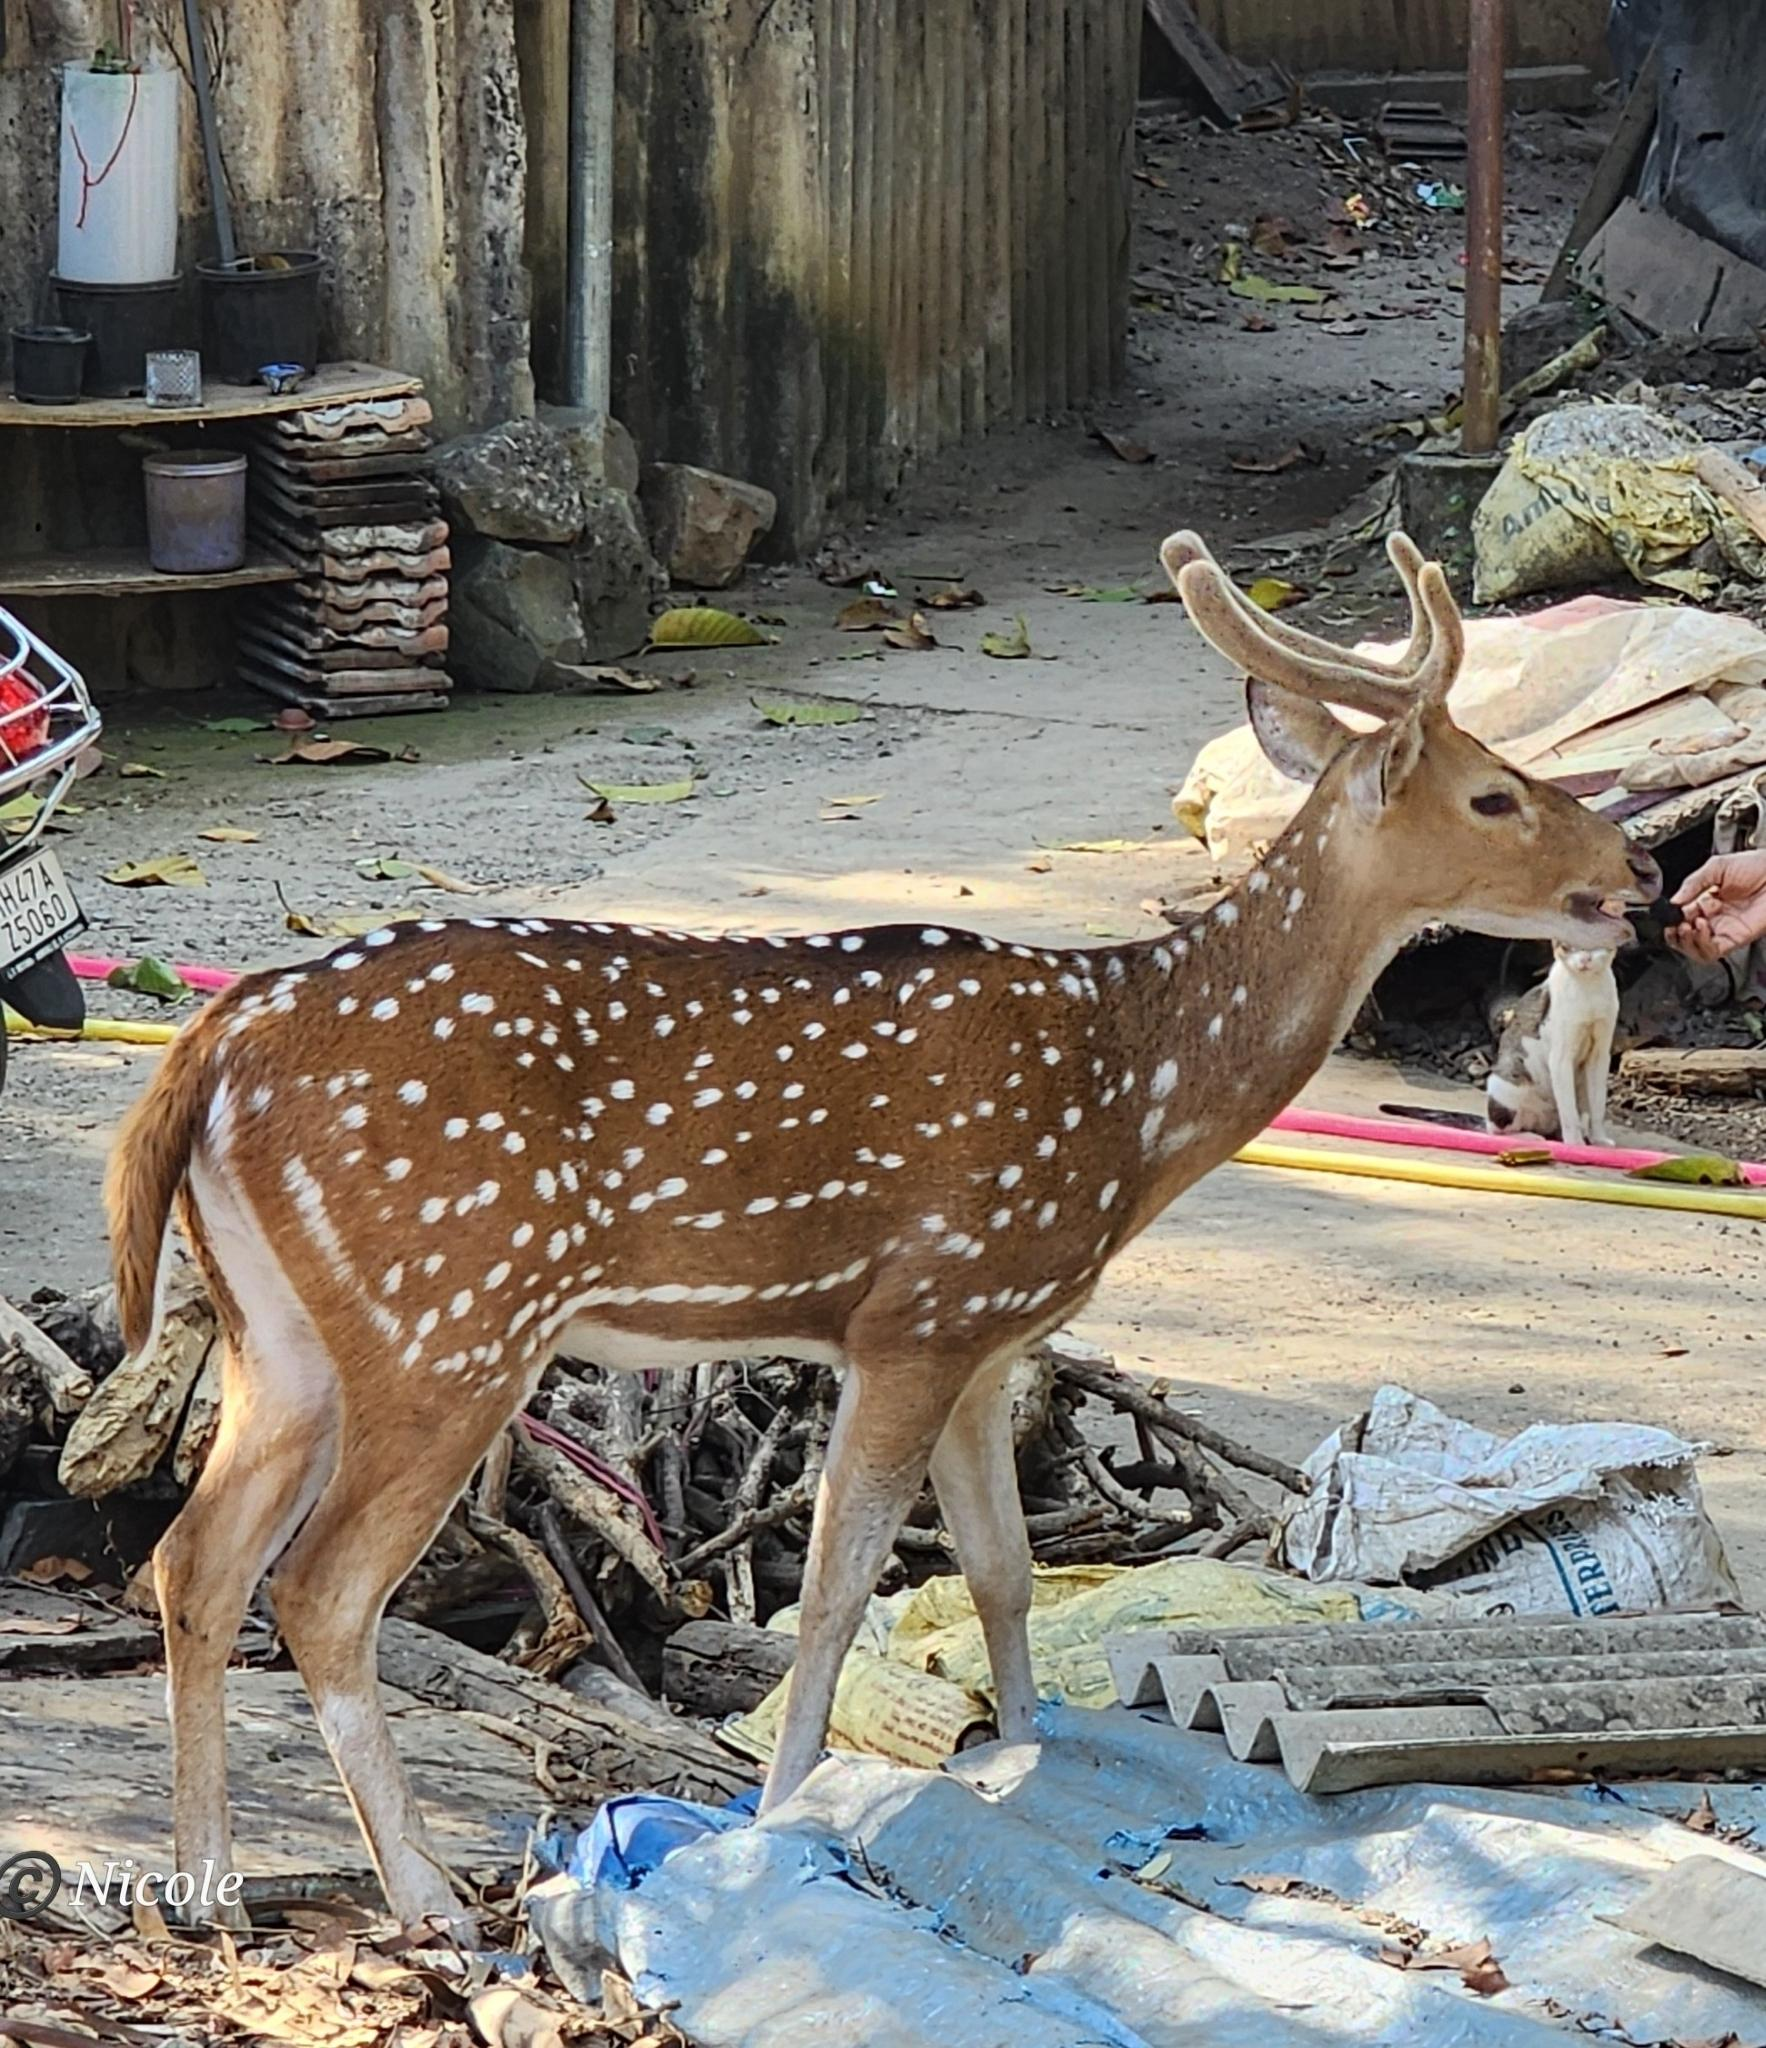Deer: (106, 531, 1656, 1924)
